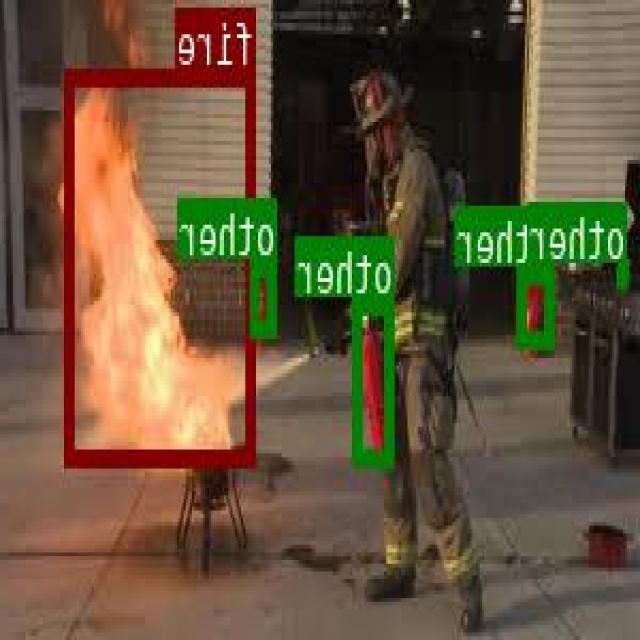fire: (68, 68, 257, 462)
other: (355, 296, 395, 462), (518, 267, 556, 344), (254, 259, 278, 334), (622, 260, 629, 282)
